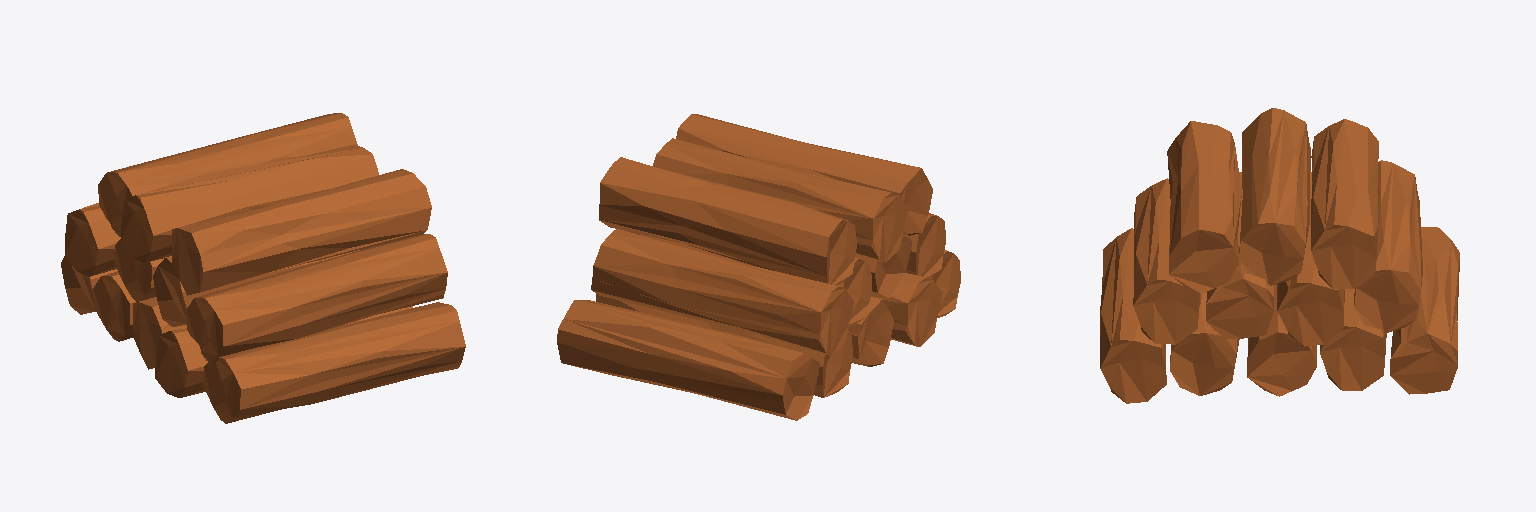
Rendered from log_rack.obj.
3 views of the same model, side by side, from view 1: azimuth 30°, elevation 25°; view 2: azimuth 150°, elevation 25°; view 3: azimuth 270°, elevation 25° (orthographic).
Visible parts, largest first — view 1: Firepit3, Firepit9, Firepit10, Firepit7, Firepit8, Firepit6, Firepit2, Firepit5, Firepit, Firepit1, Firepit4, hand_6:Firepit; view 2: Firepit8, hand_6:Firepit, Firepit6, Firepit7, Firepit10, Firepit2, Firepit, Firepit1, Firepit9, Firepit5, Firepit4, Firepit3; view 3: Firepit10, Firepit7, Firepit8, Firepit6, hand_6:Firepit, Firepit3, Firepit9, Firepit4, Firepit, Firepit5, Firepit1, Firepit2.
Boxes of the visible parts, x1=… form: Firepit3: x1=203, y1=302, x2=465, y2=423; Firepit9: x1=186, y1=234, x2=447, y2=363; Firepit10: x1=172, y1=169, x2=431, y2=295; Firepit7: x1=120, y1=144, x2=378, y2=262; Firepit8: x1=98, y1=113, x2=357, y2=236; Firepit6: x1=65, y1=203, x2=120, y2=276; Firepit2: x1=155, y1=306, x2=412, y2=397; Firepit5: x1=153, y1=250, x2=359, y2=326; Firepit: x1=93, y1=271, x2=156, y2=341; Firepit1: x1=133, y1=298, x2=186, y2=369; Firepit4: x1=115, y1=240, x2=163, y2=301; hand_6:Firepit: x1=61, y1=256, x2=117, y2=314; Firepit8: x1=599, y1=157, x2=856, y2=284; hand_6:Firepit: x1=557, y1=300, x2=819, y2=420; Firepit6: x1=591, y1=229, x2=853, y2=355; Firepit7: x1=653, y1=138, x2=907, y2=262; Firepit10: x1=676, y1=114, x2=932, y2=235; Firepit2: x1=871, y1=273, x2=942, y2=346; Firepit: x1=596, y1=294, x2=852, y2=397; Firepit1: x1=848, y1=297, x2=893, y2=366; Firepit9: x1=904, y1=213, x2=945, y2=277; Firepit5: x1=855, y1=234, x2=911, y2=298; Firepit4: x1=631, y1=232, x2=871, y2=325; Firepit3: x1=929, y1=250, x2=960, y2=317; Firepit10: x1=1167, y1=121, x2=1241, y2=293; Firepit7: x1=1239, y1=108, x2=1310, y2=285; Firepit8: x1=1311, y1=119, x2=1378, y2=288; Firepit6: x1=1354, y1=160, x2=1422, y2=333; hand_6:Firepit: x1=1390, y1=227, x2=1459, y2=394; Firepit3: x1=1100, y1=228, x2=1166, y2=403; Firepit9: x1=1133, y1=178, x2=1199, y2=344; Firepit4: x1=1277, y1=171, x2=1343, y2=346; Firepit: x1=1320, y1=289, x2=1386, y2=390; Firepit5: x1=1206, y1=172, x2=1273, y2=339; Firepit1: x1=1247, y1=284, x2=1316, y2=396; Firepit2: x1=1170, y1=292, x2=1239, y2=395.
Bounding box in the file's own units: 1.29 × 0.8884 × 1.61.